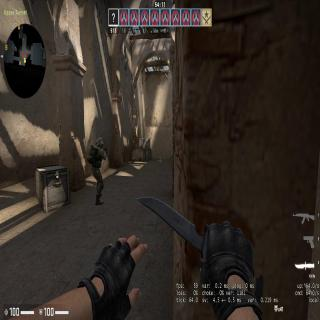CT-Body: (88, 133, 108, 207)
CT-Head: (96, 137, 102, 147)
